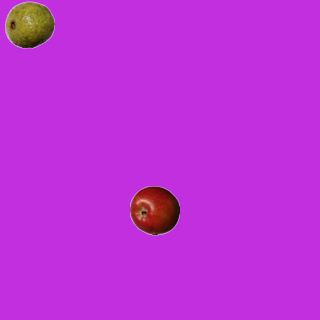Apple Braeburn: (129, 185, 179, 235)
Guava: (4, 0, 54, 49)
